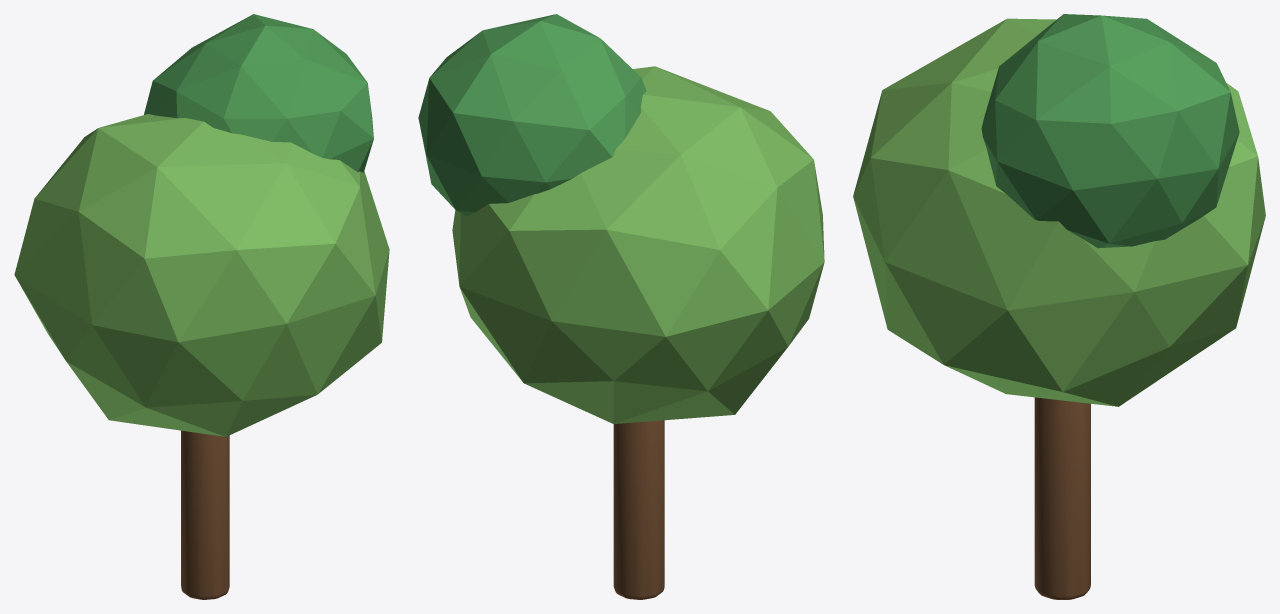
File: arvore_redonda_b.glb
3 renders of one model, left to right at view 1: azimuth 30°, elevation 25°; view 2: azimuth 150°, elevation 25°; view 3: azimuth 270°, elevation 25°, orthographic. The views are drawn at different scales.
Parts seen in each view (by area): view 1: Icosphere, Icosphere.001, Cylinder; view 2: Icosphere, Icosphere.001, Cylinder; view 3: Icosphere, Icosphere.001, Cylinder.
Boxes of the visible parts, bbox=[...] form: Icosphere: bbox=[14, 114, 389, 436]; Icosphere.001: bbox=[144, 14, 373, 172]; Cylinder: bbox=[181, 430, 229, 599]; Icosphere: bbox=[452, 66, 824, 423]; Icosphere.001: bbox=[418, 14, 646, 215]; Cylinder: bbox=[613, 420, 664, 599]; Icosphere: bbox=[853, 18, 1265, 406]; Icosphere.001: bbox=[981, 14, 1239, 248]; Cylinder: bbox=[1034, 397, 1090, 599].
Bounding box in the file's own units: 1.93 × 3.01 × 1.82.
